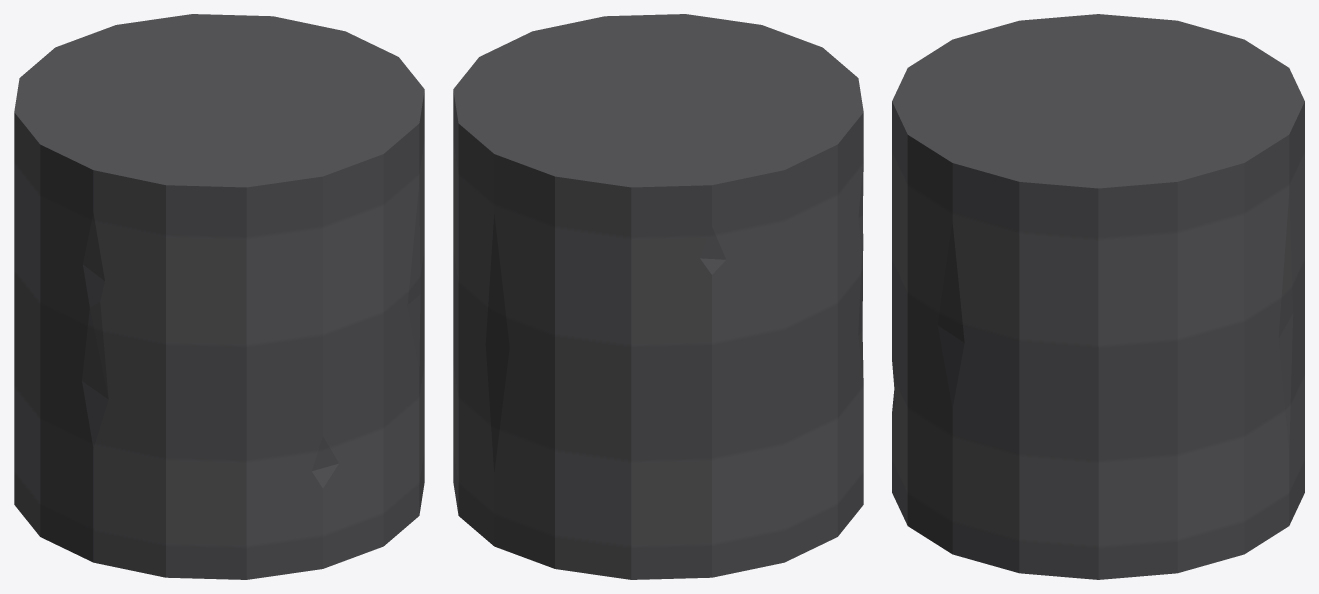
File: SM_Bld_Castle_Tower_Round_02_Lite.gltf
3 views of the same model, side by side, from view 1: azimuth 30°, elevation 25°; view 2: azimuth 150°, elevation 25°; view 3: azimuth 270°, elevation 25° (orthographic).
Visible parts, largest first — view 1: SM_Bld_Castle_Tower_Round_02_Lite; view 2: SM_Bld_Castle_Tower_Round_02_Lite; view 3: SM_Bld_Castle_Tower_Round_02_Lite.
Part boxes in pixels (<box>): SM_Bld_Castle_Tower_Round_02_Lite: <box>14,14,424,579</box>; SM_Bld_Castle_Tower_Round_02_Lite: <box>453,14,863,579</box>; SM_Bld_Castle_Tower_Round_02_Lite: <box>892,14,1304,579</box>.
Size of the model in its own units: 2.87 by 3 by 2.87.
Materials: 1 (1 with a texture image).
